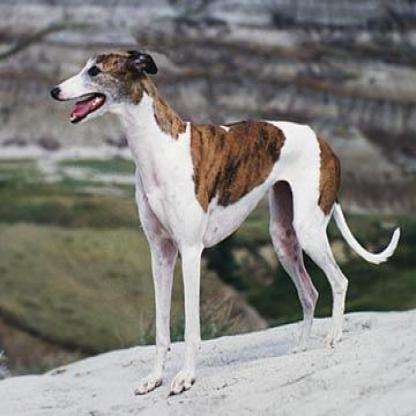dog: (49, 46, 367, 395)
